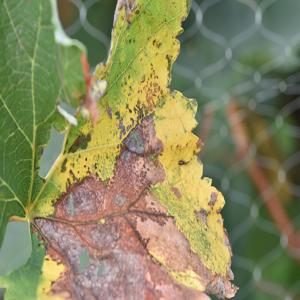Folha: (25, 0, 240, 300)
Fungo: (34, 154, 238, 300), (72, 54, 108, 125), (121, 114, 163, 155), (138, 62, 164, 111), (56, 102, 78, 126), (123, 0, 135, 28), (194, 207, 209, 227), (208, 190, 218, 209), (118, 116, 126, 139), (193, 138, 204, 154), (170, 185, 182, 199), (105, 103, 112, 120), (200, 207, 208, 217), (178, 158, 189, 165)
